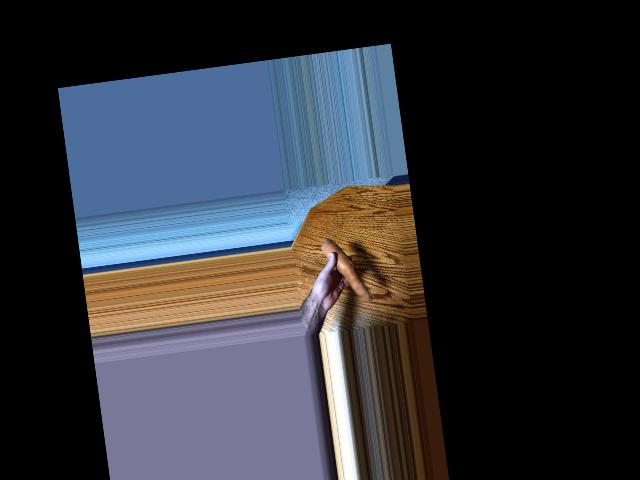sweet_potato: (321, 227, 367, 306)
